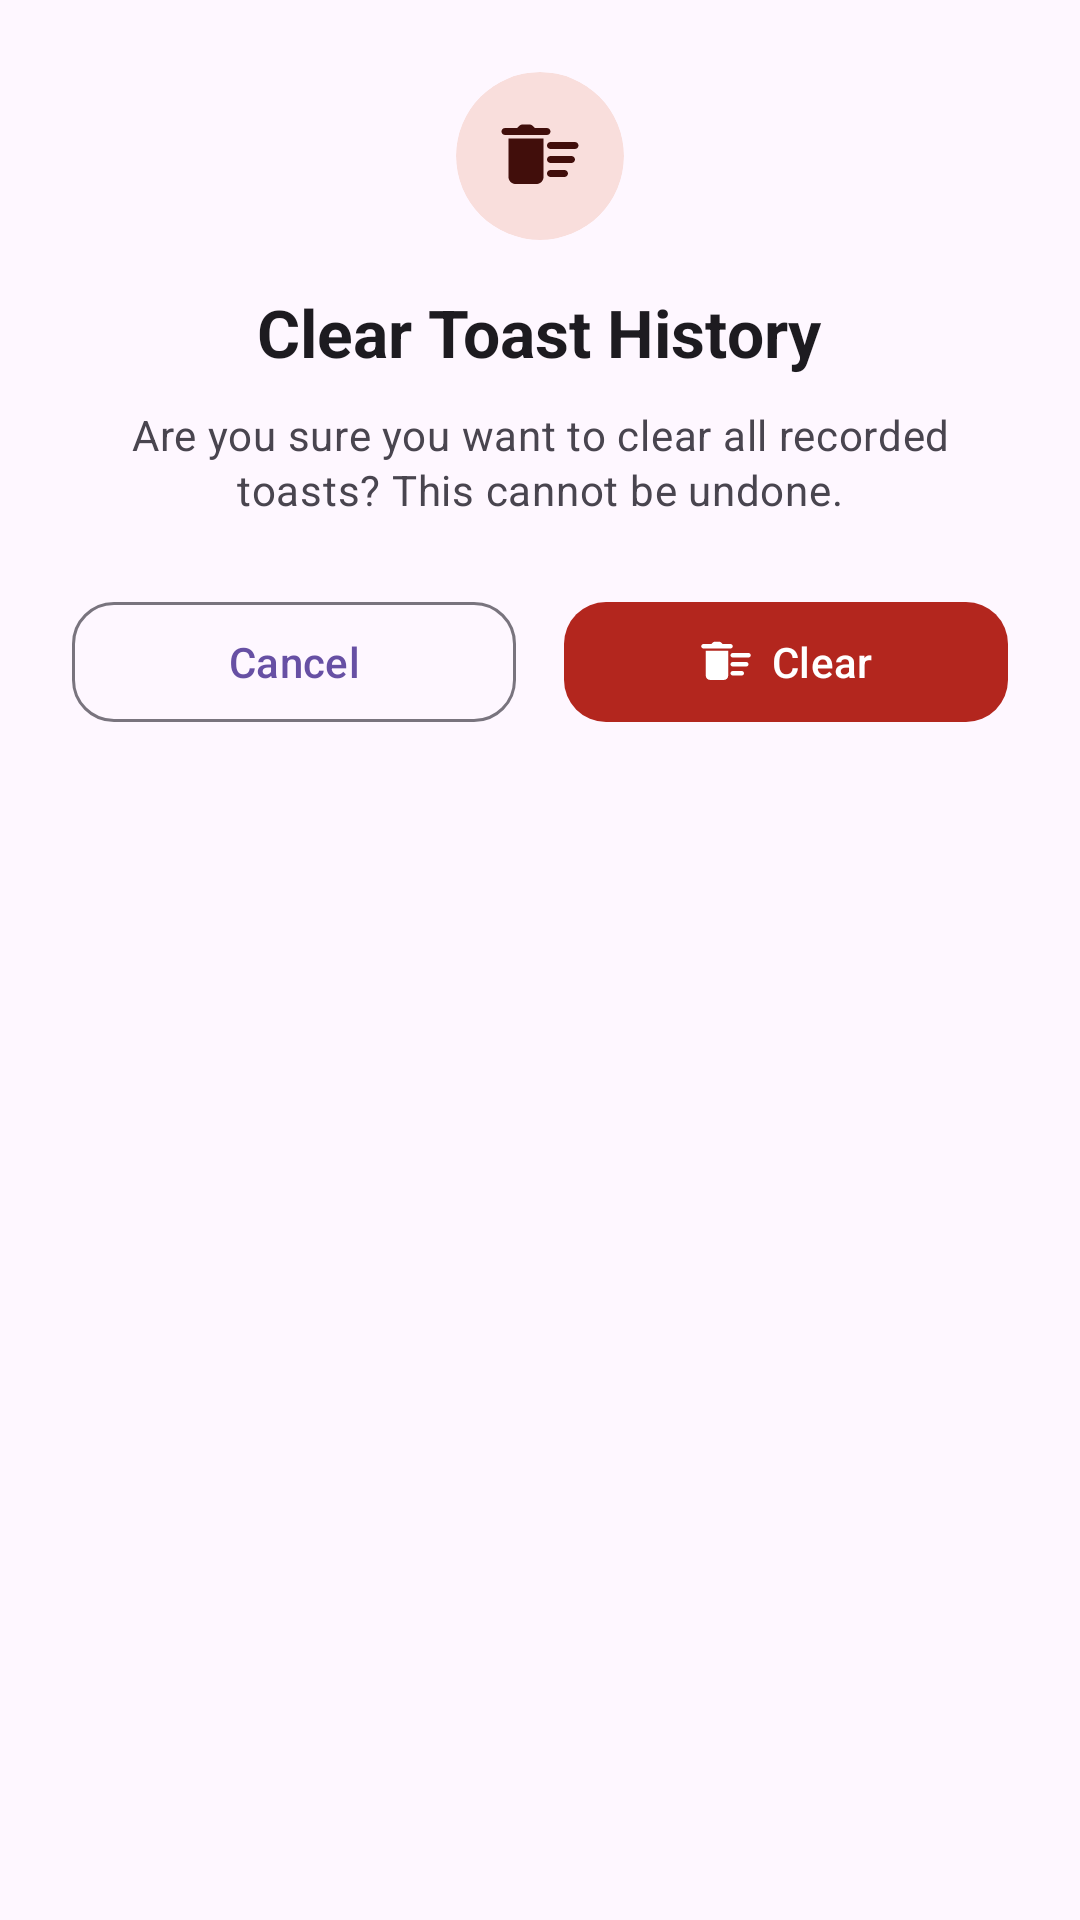

Where icons sit on this 1080×1920 app screen, as (x1, y1, x2, y2):
delete sweep: (501, 124, 579, 184)
